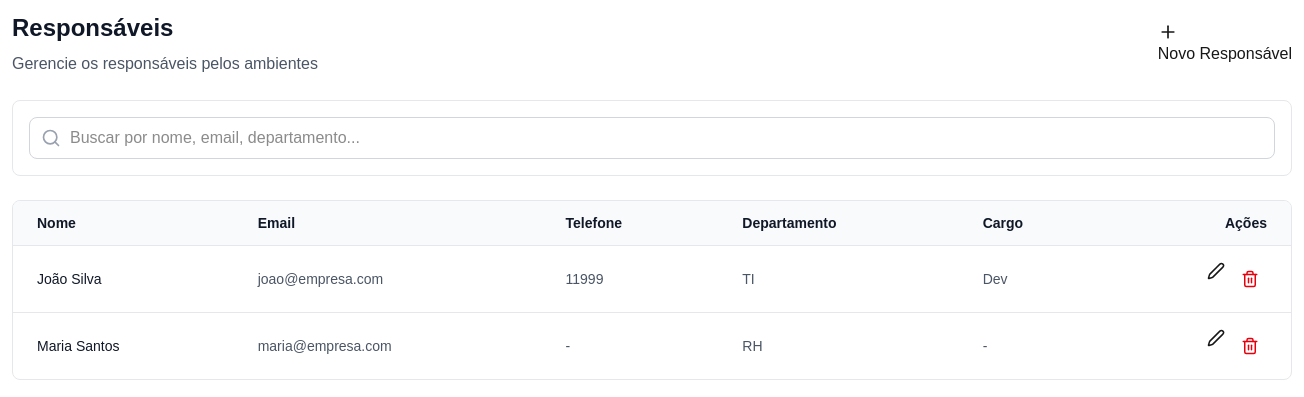
ResponsaveisList › delete com sucesso remove da lista e exibe toast
This screenshot has width=1304, height=397.
Expected: the text "João Silva" is shown, [13,246,234,312]
What coordinates should you click on to do the following:
click the button without text in the row of "João Silva"
I would click on:
 (1250, 279)
Its box is [1233,262,1267,296].
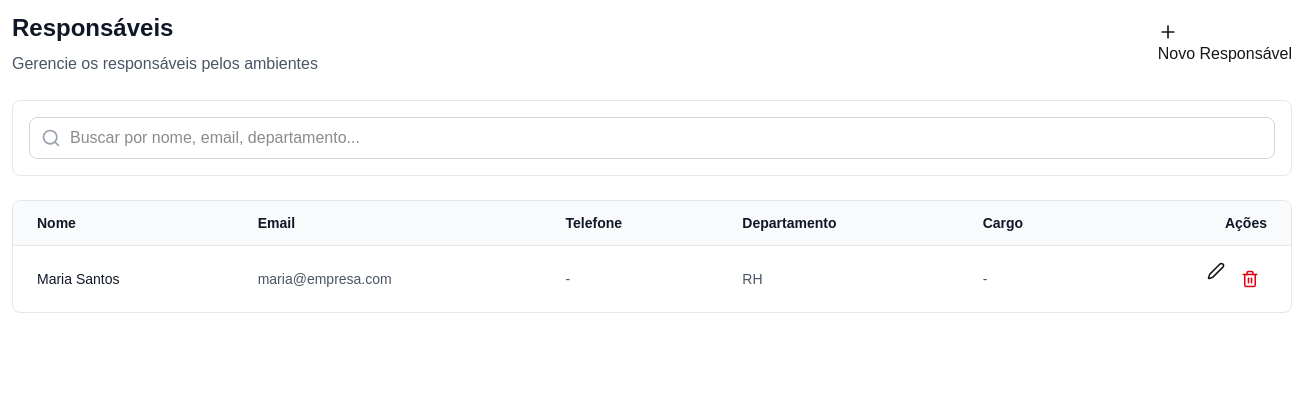
Expected: the text "João Silva" is gone
